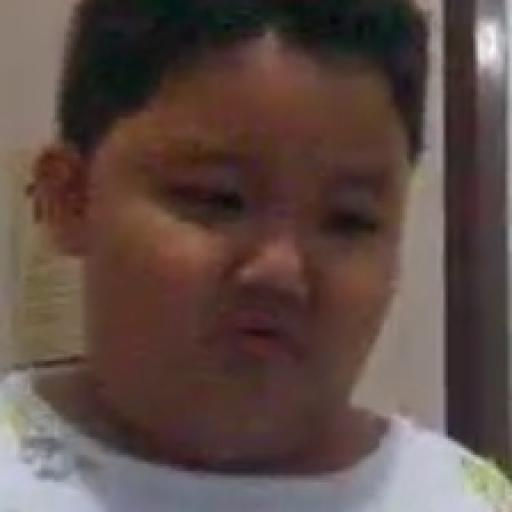Autism: (53, 1, 488, 512)
